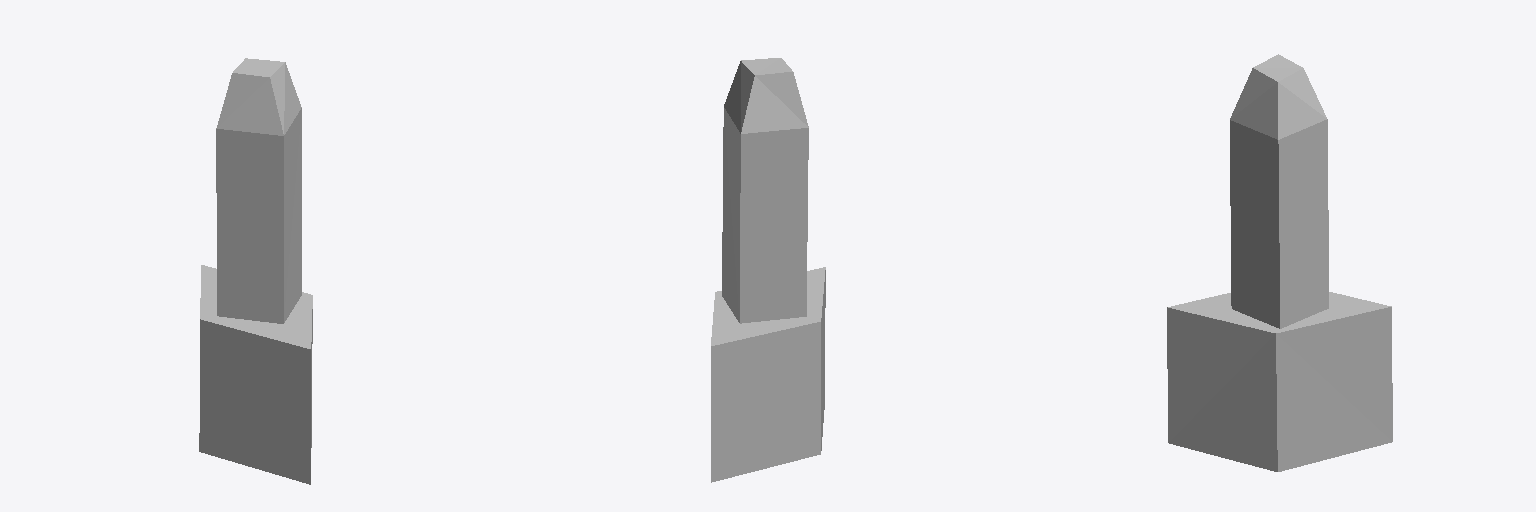
File: Forearm.obj
3 renders of one model, left to right at view 1: azimuth 30°, elevation 25°; view 2: azimuth 150°, elevation 25°; view 3: azimuth 270°, elevation 25°, orthographic.
Size of the model in its own units: 0.5154 by 1.7 by 0.9187.